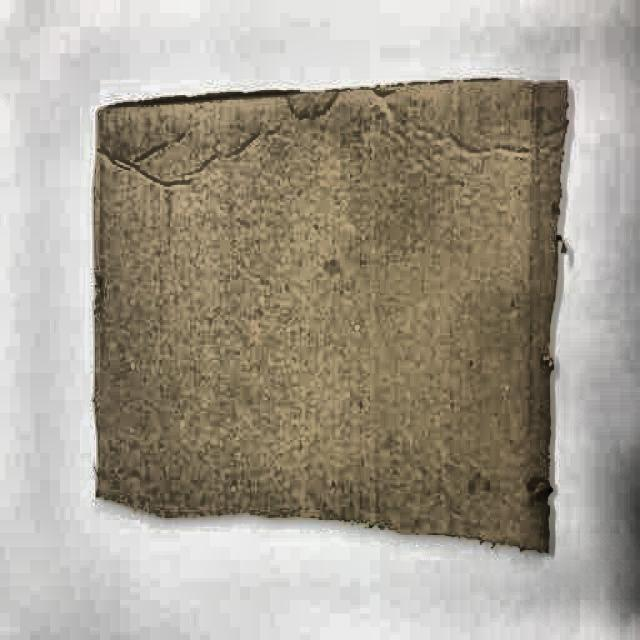cardboard: (88, 79, 554, 558)
